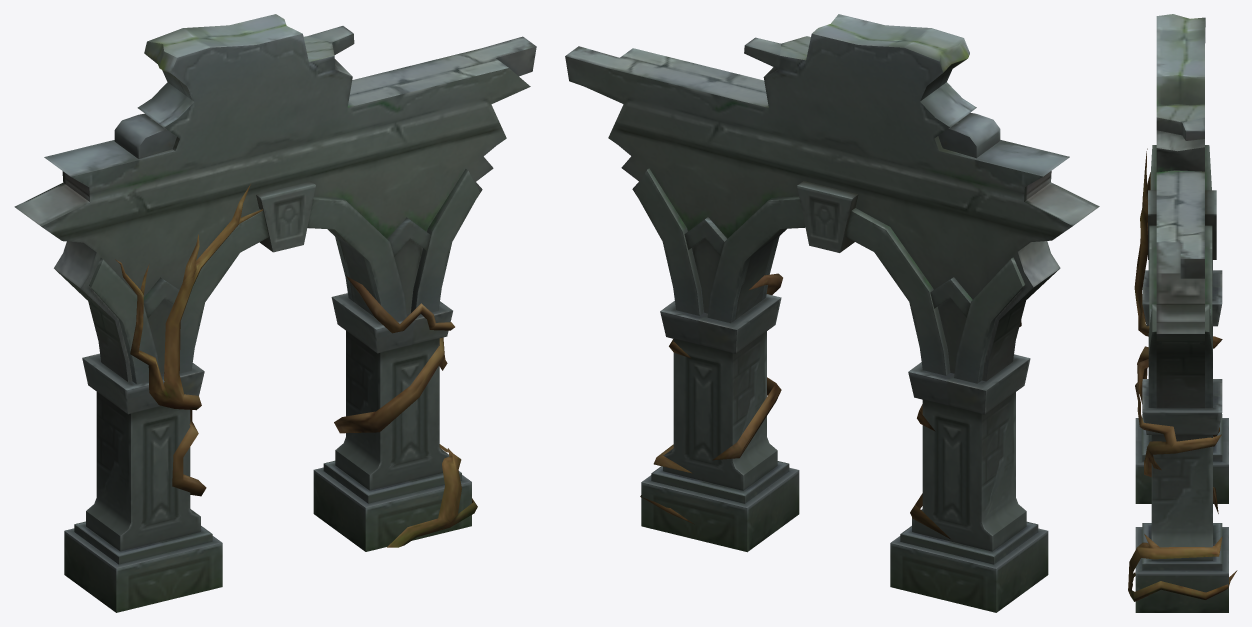
File: scene_shenmisenlin_sm01.FBX
3 renders of one model, left to right at view 1: azimuth 30°, elevation 25°; view 2: azimuth 150°, elevation 25°; view 3: azimuth 270°, elevation 25°, orthographic. The views are drawn at different scales.
Parts seen in each view (by area): view 1: scene_shenmisenlin_sm01; view 2: scene_shenmisenlin_sm01; view 3: scene_shenmisenlin_sm01.
Boxes of the visible parts, x1,y1,x2,y2 form: scene_shenmisenlin_sm01: (14, 14, 536, 612); scene_shenmisenlin_sm01: (565, 14, 1099, 612); scene_shenmisenlin_sm01: (1128, 14, 1237, 612).
Size of the model in its own units: 525 by 524 by 110.
